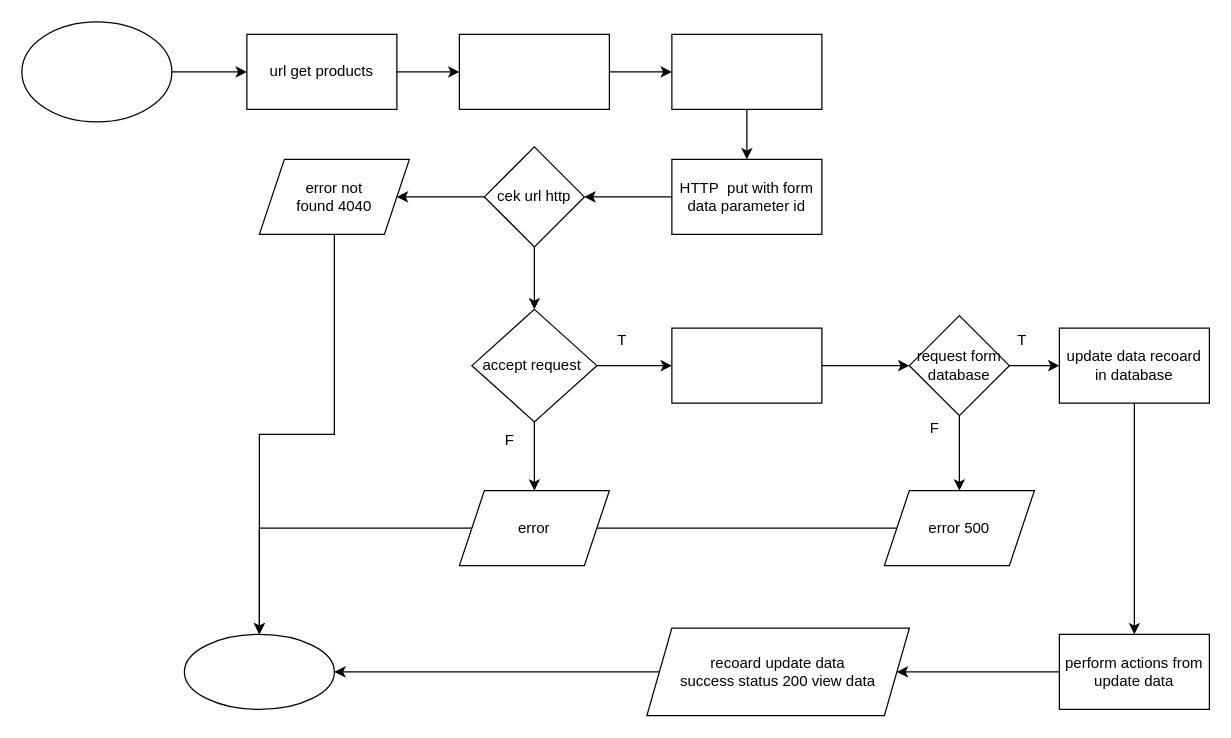
This 1231x738 diagram has some shape labels left out. Here are the shapes that lost their labels. From the top down, the centre of each, then its label:
At point (96, 71): "START".
At point (533, 71): "view field in products".
At point (746, 71): "select product by id".
At point (746, 365): "choose update database".
At point (258, 671): "END".
